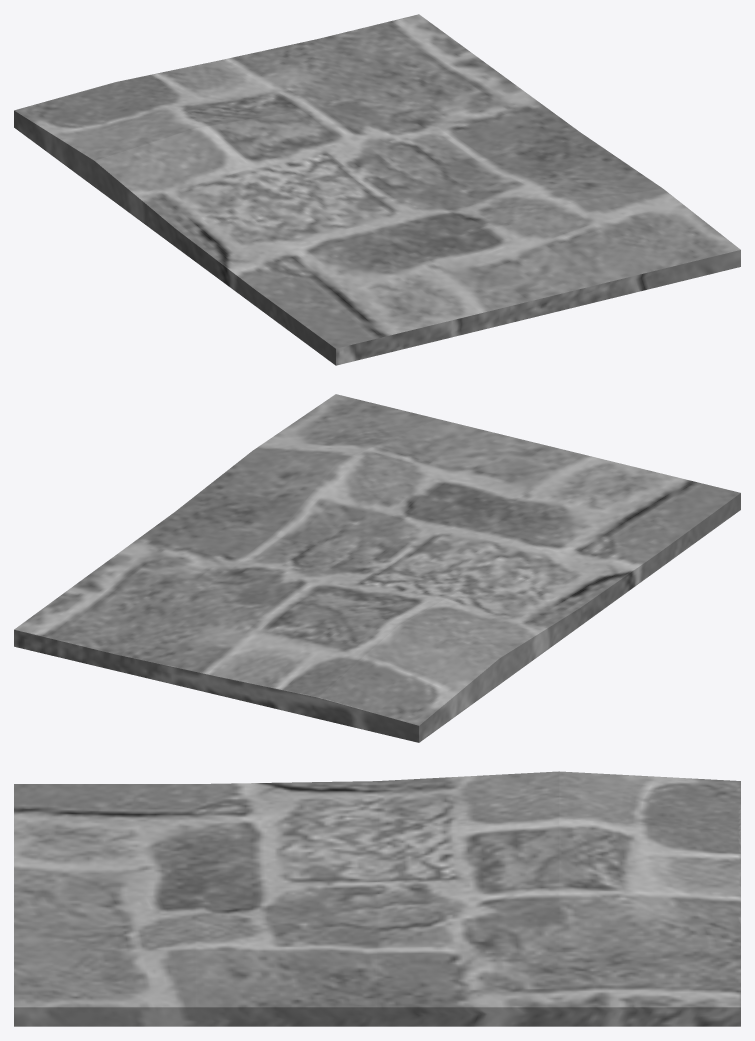
File: NNJ0510011.fbx
3 renders of one model, top to bottom at view 1: azimuth 30°, elevation 25°; view 2: azimuth 150°, elevation 25°; view 3: azimuth 270°, elevation 25°, orthographic. The views are drawn at different scales.
Visible parts, largest first — view 1: smNNJ0510011; view 2: smNNJ0510011; view 3: smNNJ0510011.
Boxes of the visible parts, x1,y1,x2,y2 form: smNNJ0510011: (14, 14, 740, 365); smNNJ0510011: (14, 394, 740, 742); smNNJ0510011: (14, 771, 740, 1026).
Size of the model in its own units: 127 by 10.71 by 173.
1 material, 1 textured.
